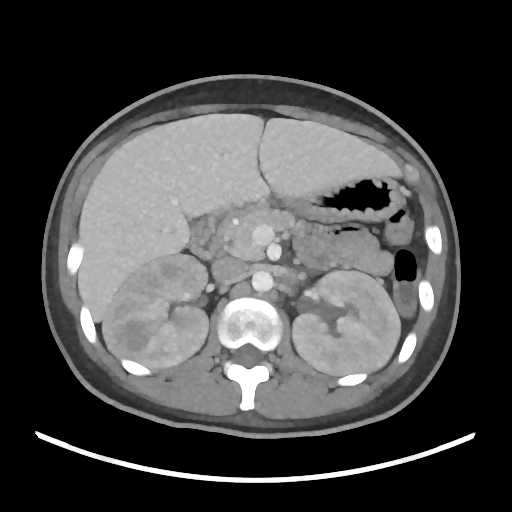Lesion: (101, 252, 215, 371)
